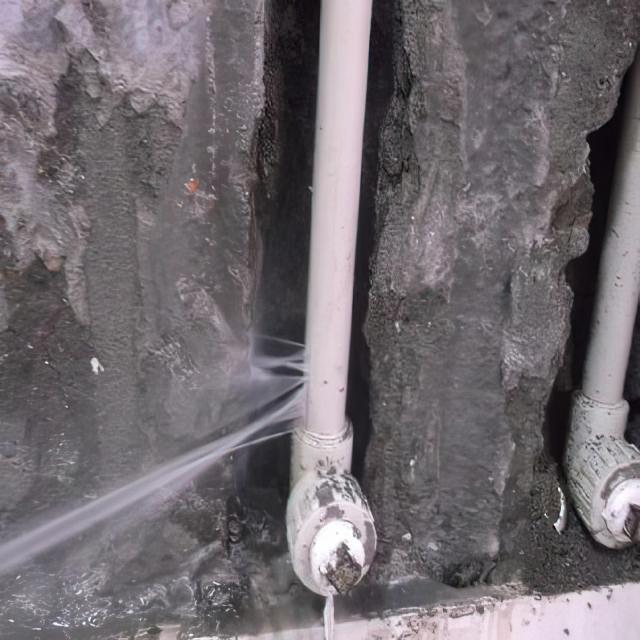leak: (0, 328, 312, 606)
